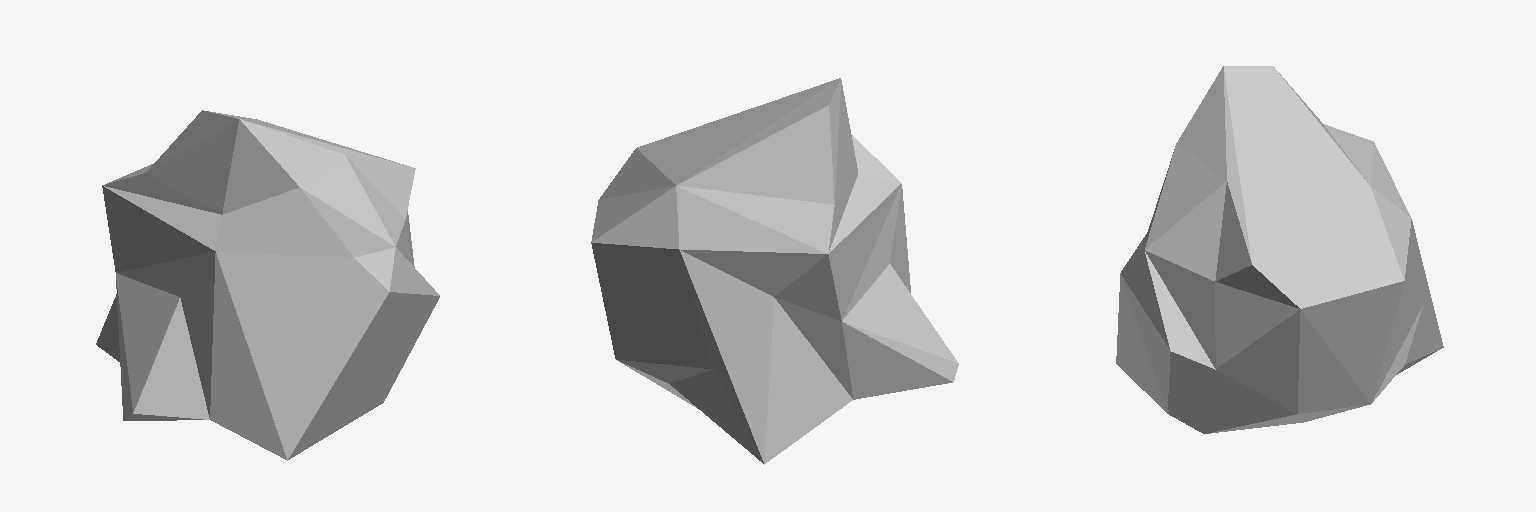
The model's file is stone_5.obj.
The picture shows the model from 3 angles: view 1: azimuth 30°, elevation 25°; view 2: azimuth 150°, elevation 25°; view 3: azimuth 270°, elevation 25°; orthographic projection.
Parts seen in each view (by area): view 1: stone_5; view 2: stone_5; view 3: stone_5.
Boxes of the visible parts, <box> form: stone_5: <box>96,110,439,460</box>; stone_5: <box>591,78,958,464</box>; stone_5: <box>1116,66,1443,433</box>.
Size of the model in its own units: 1.57 by 1.59 by 1.4.